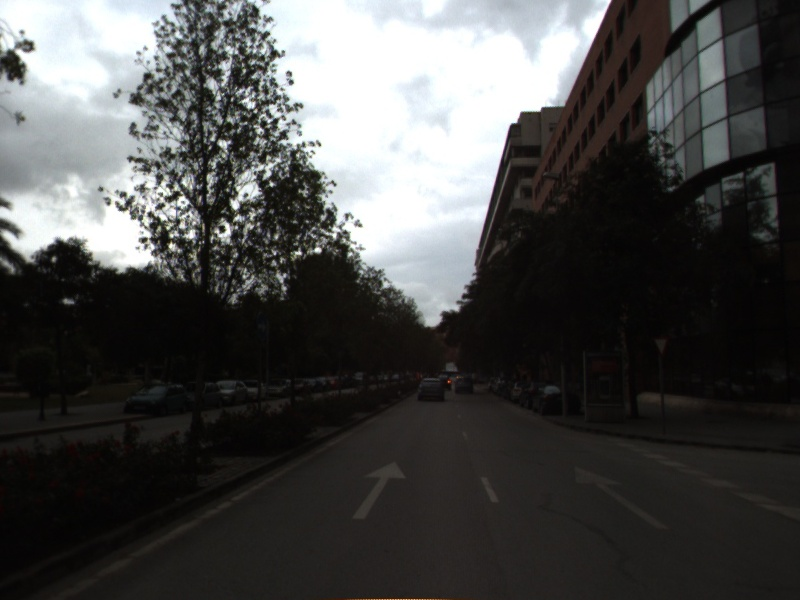STRAIGHT: (572, 463, 672, 532), (350, 458, 409, 522)
